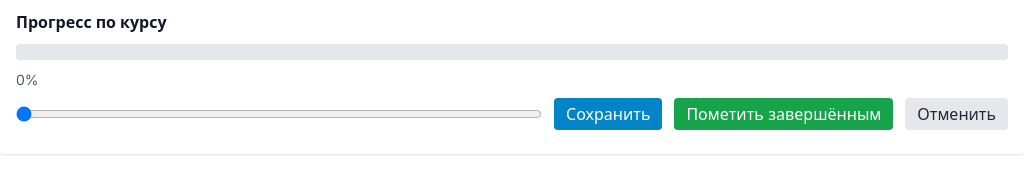
Test case: ProgressTracker › shows error on save failure
Click the button "Сохранить". click: [608, 114]
box: left=554, top=98, right=662, bottom=130
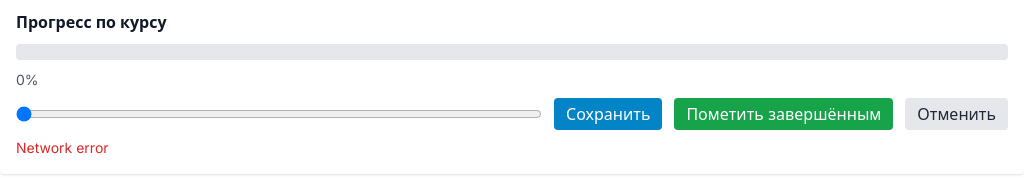
Check: the text "Network error" is shown, box left=16, top=139, right=109, bottom=156
